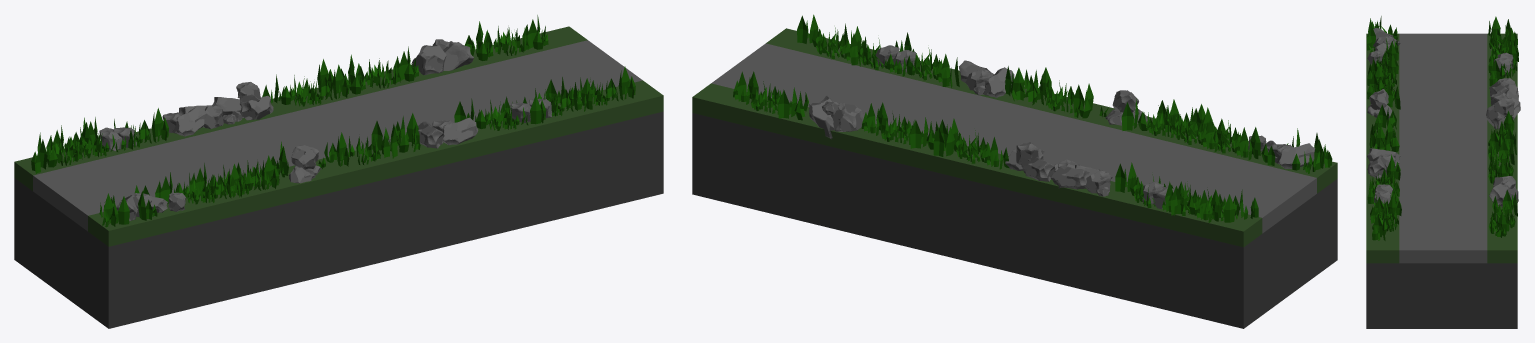
Rendered from Plattform2.fbx.
3 views of the same model, side by side, from view 1: azimuth 30°, elevation 25°; view 2: azimuth 150°, elevation 25°; view 3: azimuth 270°, elevation 25° (orthographic). The views are drawn at different scales.
Visible parts, largest first — view 1: Cube, Cube.010, Cube.003, Cube.018, Cube.012, Cube.009, Cube.005, Cube.024; view 2: Cube, Cube.010, Cube.015, Cube.006, Cube.012, Cube.023, Cube.024; view 3: Cube, Cube.012, Cube.005, Cube.007, Cube.009, Cube.003, Cube.024, Cube.021, Cube.027, Cube.015, Cube.018, Cube.028 (+9 smaller).
Part boxes in pixels (left/top/right/bottom): Cube: left=14, top=26, right=663, bottom=328; Cube.010: left=412, top=45, right=446, bottom=75; Cube.003: left=443, top=117, right=478, bottom=145; Cube.018: left=172, top=106, right=206, bottom=136; Cube.012: left=443, top=41, right=473, bottom=70; Cube.009: left=240, top=95, right=273, bottom=120; Cube.005: left=291, top=145, right=318, bottom=169; Cube.024: left=418, top=121, right=444, bottom=148; Cube: left=692, top=28, right=1337, bottom=328; Cube.010: left=831, top=103, right=864, bottom=131; Cube.015: left=1050, top=165, right=1089, bottom=189; Cube.006: left=1276, top=143, right=1315, bottom=168; Cube.012: left=809, top=96, right=834, bottom=138; Cube.023: left=1021, top=157, right=1055, bottom=181; Cube.024: left=983, top=67, right=1014, bottom=97; Cube: left=1366, top=33, right=1517, bottom=328; Cube.012: left=1489, top=184, right=1518, bottom=206; Cube.005: left=1369, top=89, right=1388, bottom=109; Cube.007: left=1493, top=97, right=1514, bottom=117; Cube.009: left=1486, top=104, right=1505, bottom=129; Cube.003: left=1367, top=156, right=1386, bottom=178; Cube.024: left=1367, top=148, right=1400, bottom=163; Cube.021: left=1494, top=58, right=1511, bottom=75; Cube.027: left=1373, top=191, right=1391, bottom=205; Cube.015: left=1504, top=84, right=1518, bottom=99; Cube.018: left=1489, top=81, right=1507, bottom=96; Cube.028: left=1367, top=50, right=1382, bottom=64.
Bounding box in the file's own units: 7082 × 1574 × 2134.
